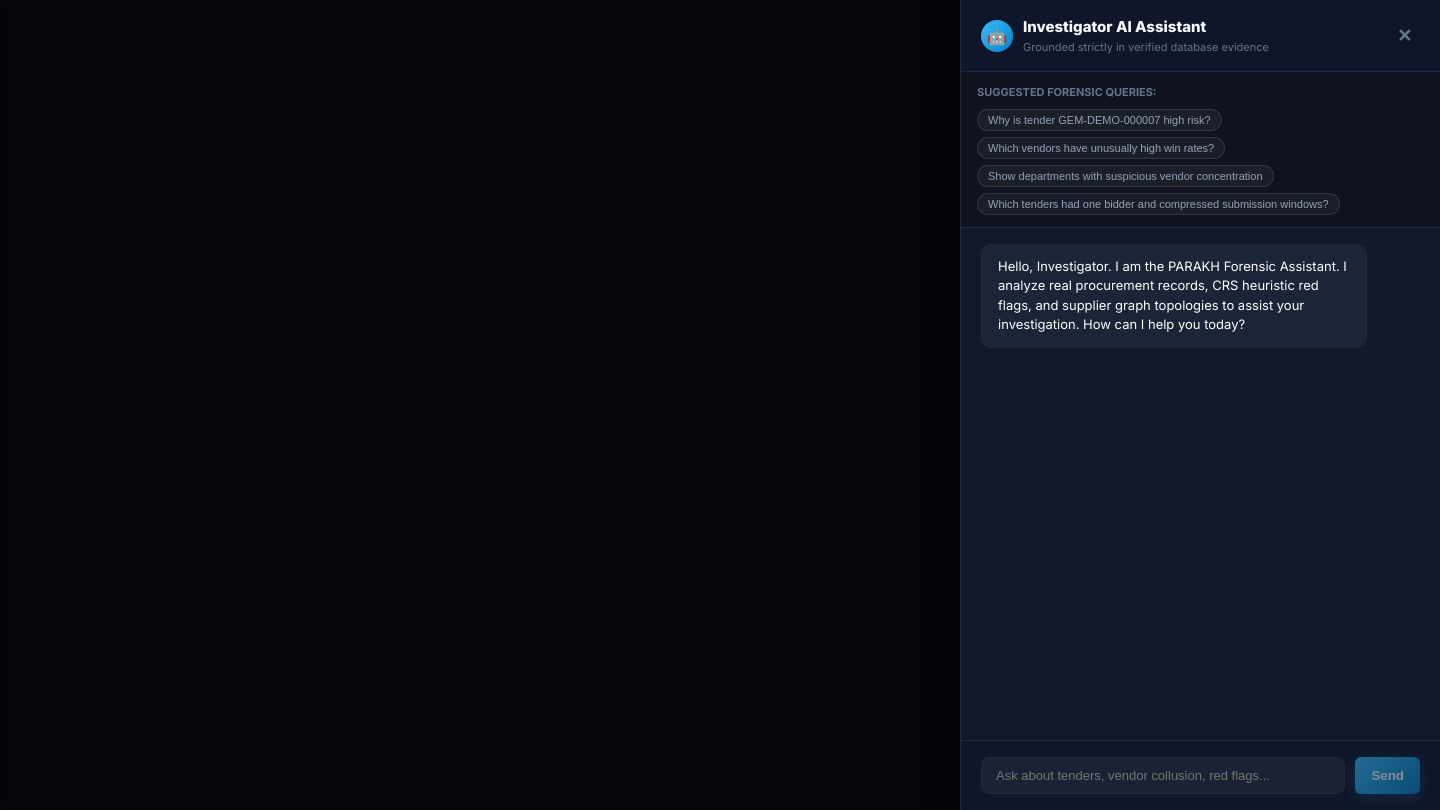
Scenario: AIAssistantDrawer Component › submits query to api and displays response with citations
The image size is (1440, 810).
Step 1. Type "Why is tender GEM-DEMO-000007 high risk?" into the field with placeholder "Ask about tenders, vendor collusion, red flags..." → (1163,776), box [981,757,1345,794]
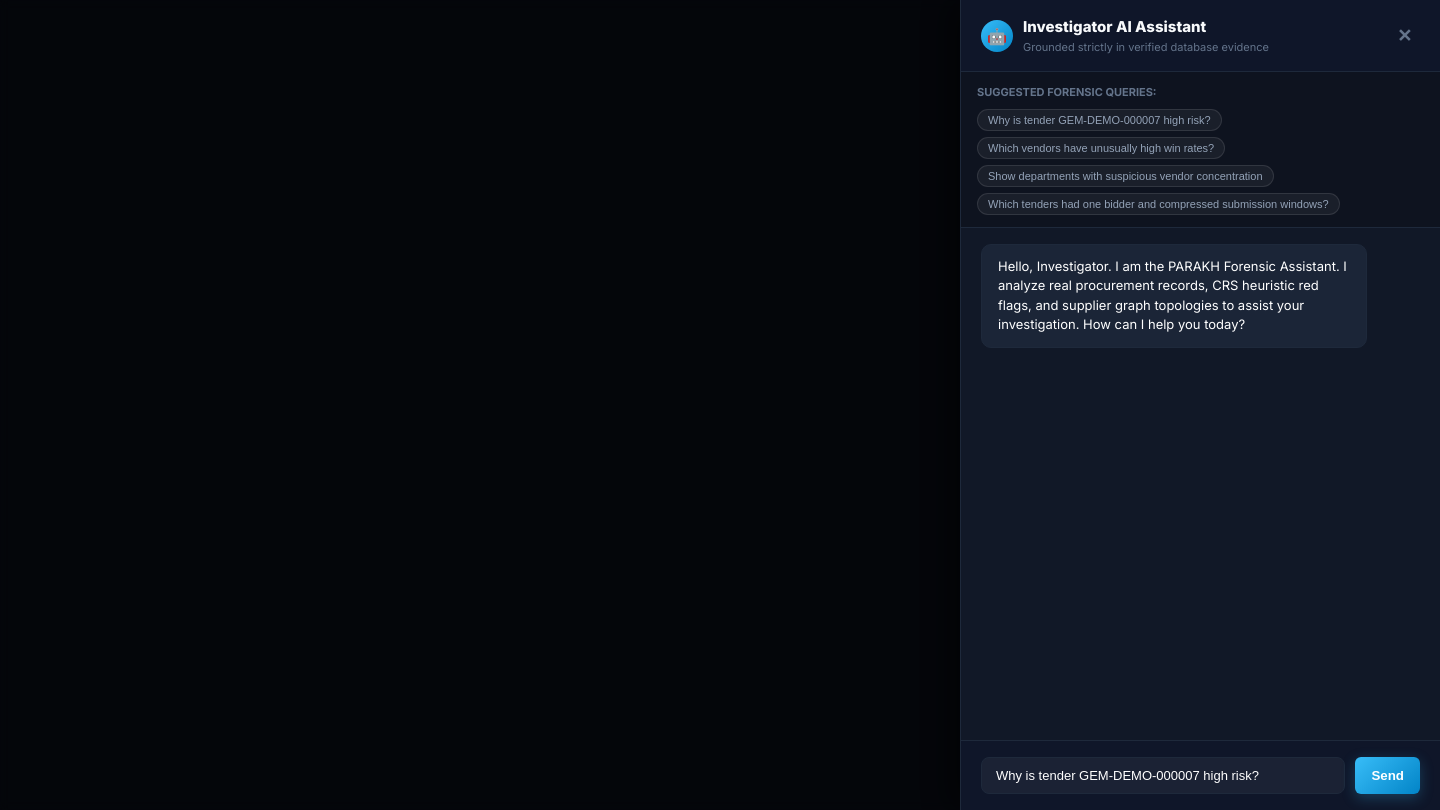
Step 2. Click the button "Send" → (1388,776), box [1355,757,1420,794]
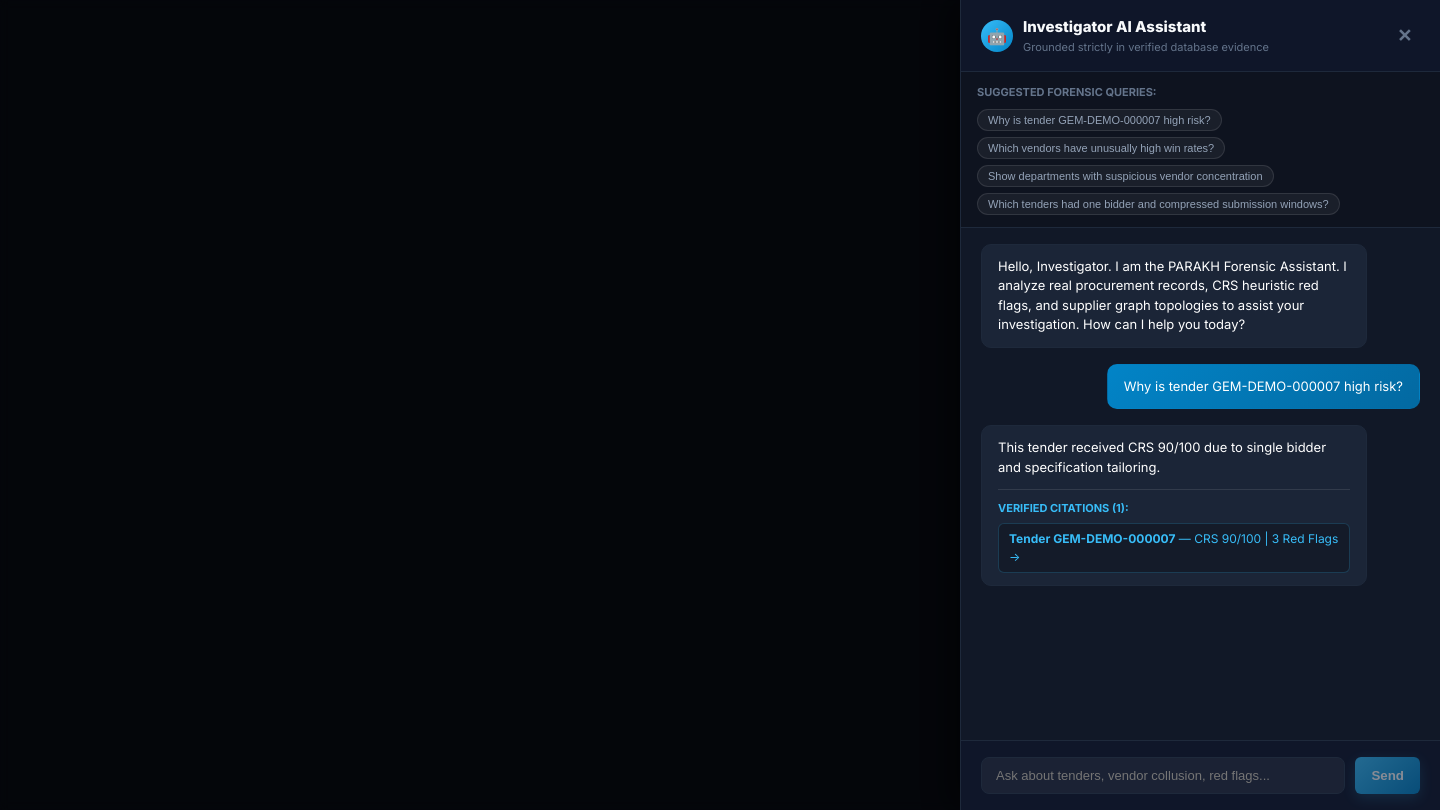
Check: the text "This tender received CRS 90/100" is shown, box [998,439,1330,474]
Check: the text "Tender GEM-DEMO-000007" is shown, box [1009,530,1175,546]
